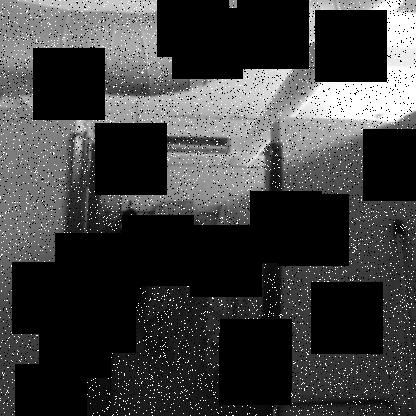Porte: (51, 131, 284, 415)
